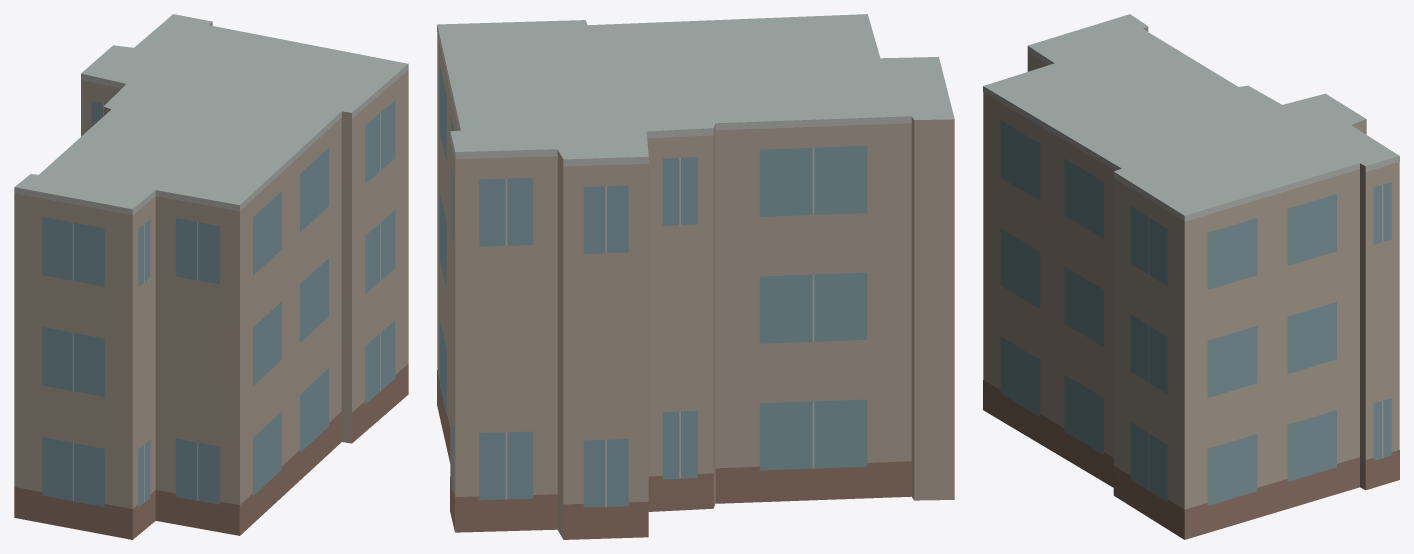
File: survey-upis-32492524.glb
3 renders of one model, left to right at view 1: azimuth 30°, elevation 25°; view 2: azimuth 150°, elevation 25°; view 3: azimuth 270°, elevation 25°, orthographic. The views are drawn at different scales.
Parts seen in each view (by area): view 1: survey-upis-32492524.tmp; view 2: survey-upis-32492524.tmp; view 3: survey-upis-32492524.tmp.
Part boxes in pixels (x1,y1,x2,y2): survey-upis-32492524.tmp: (14, 14, 408, 539); survey-upis-32492524.tmp: (437, 14, 954, 539); survey-upis-32492524.tmp: (983, 14, 1399, 539).
Size of the model in its own units: 17.57 by 13.15 by 15.33.
